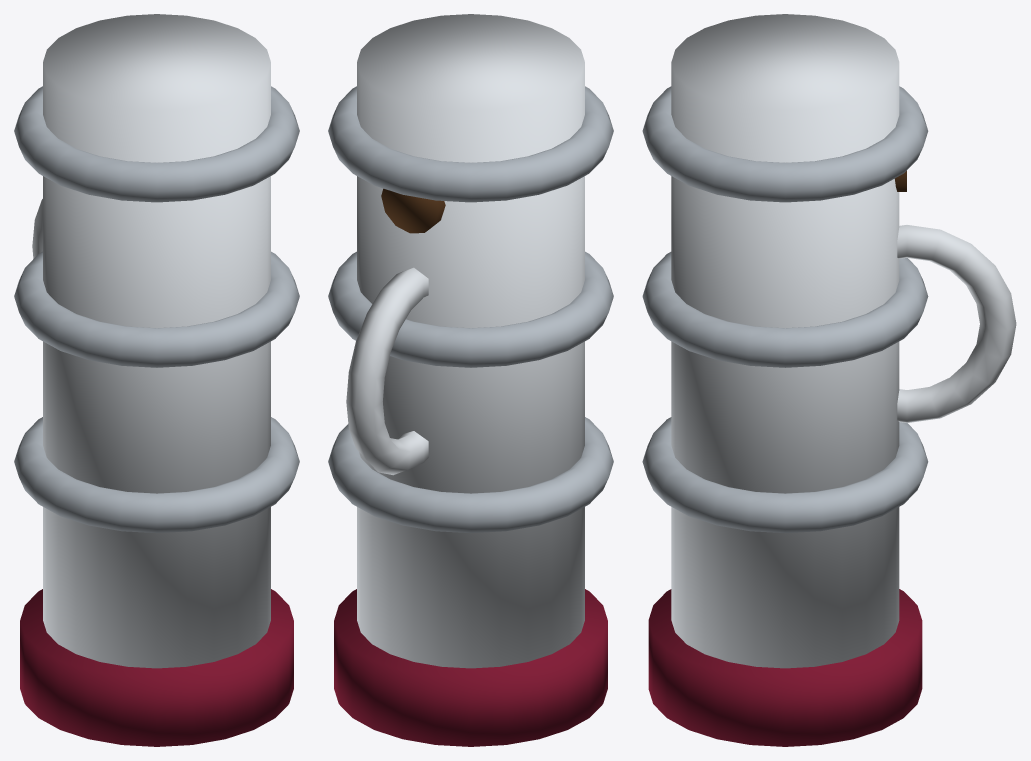
The model's file is weapons.glb.
3 views of the same model, side by side, from view 1: azimuth 30°, elevation 25°; view 2: azimuth 150°, elevation 25°; view 3: azimuth 270°, elevation 25° (orthographic).
Parts seen in each view (by area): view 1: w_cannon; view 2: w_cannon, w_blaster; view 3: w_cannon.
Boxes of the visible parts, x1,y1,x2,y2 form: w_cannon: [14, 14, 299, 746]; w_cannon: [328, 14, 613, 746]; w_blaster: [381, 188, 445, 233]; w_cannon: [642, 14, 1016, 746].
Size of the model in its own units: 0.188 by 0.461 by 0.246.
